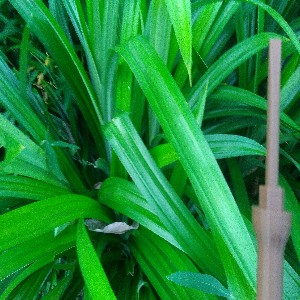obeng: (250, 36, 294, 300)
